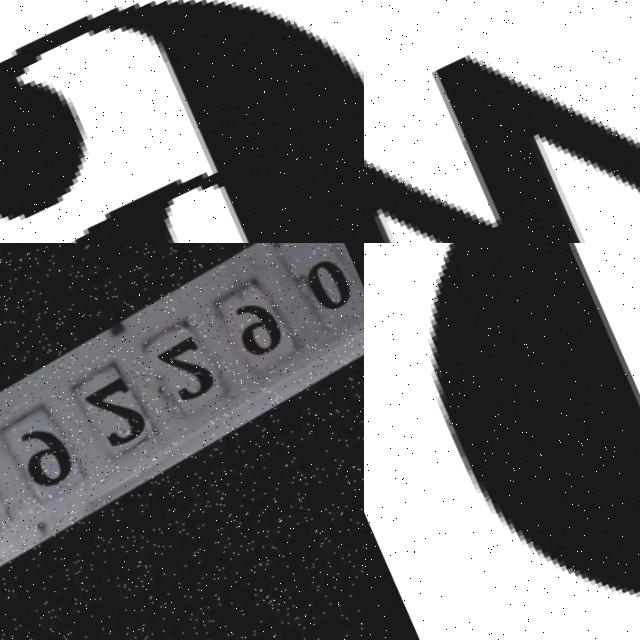0: (364, 243, 640, 640), (277, 243, 364, 340)
2: (59, 357, 173, 478), (131, 314, 243, 434)
4: (0, 444, 28, 567)
9: (0, 0, 364, 243), (202, 274, 308, 388), (0, 399, 101, 517)
W: (364, 0, 640, 243)
